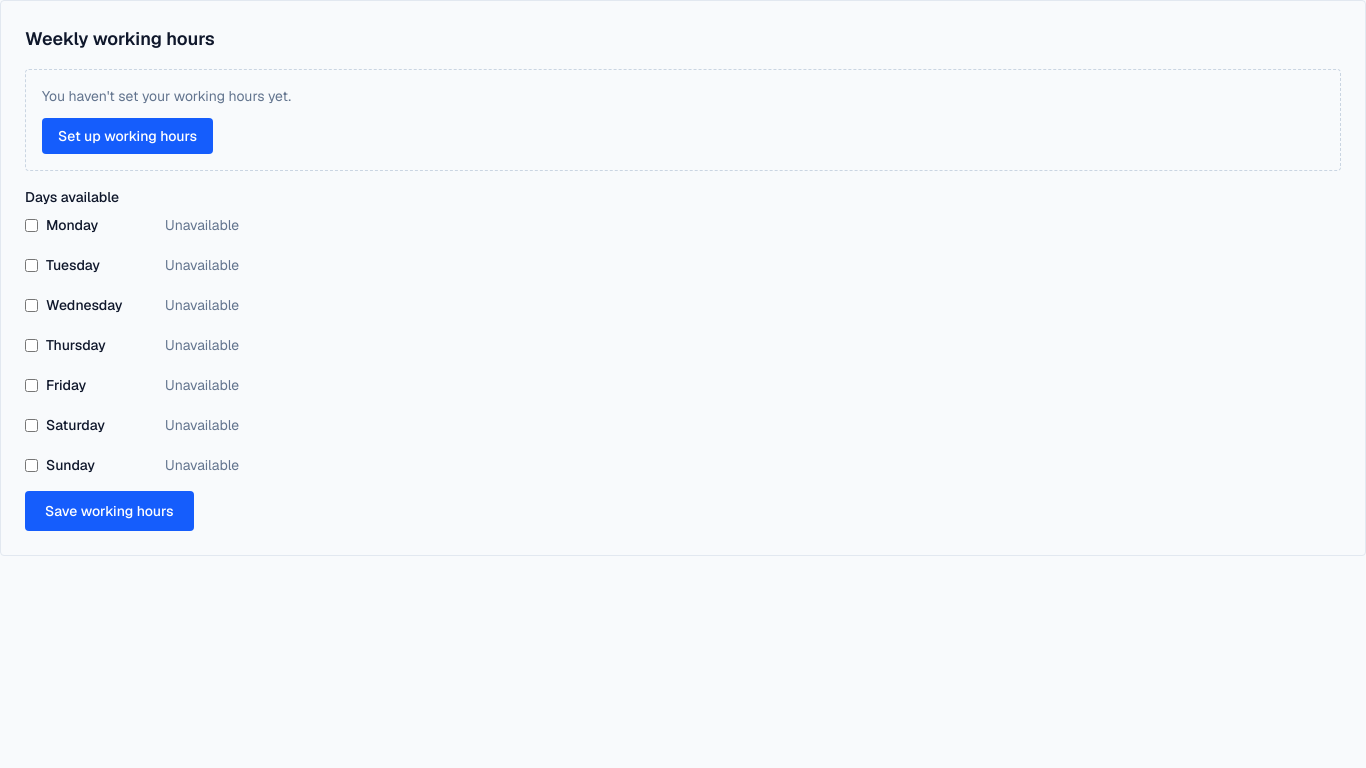
Test: WorkingHoursSection › reveals a single block defaulting to 09:00-17:00 when a day is checked
The width and height of the screenshot is (1366, 768).
Click the checkbox labelled "Monday": (32, 225) [25,218,38,232]
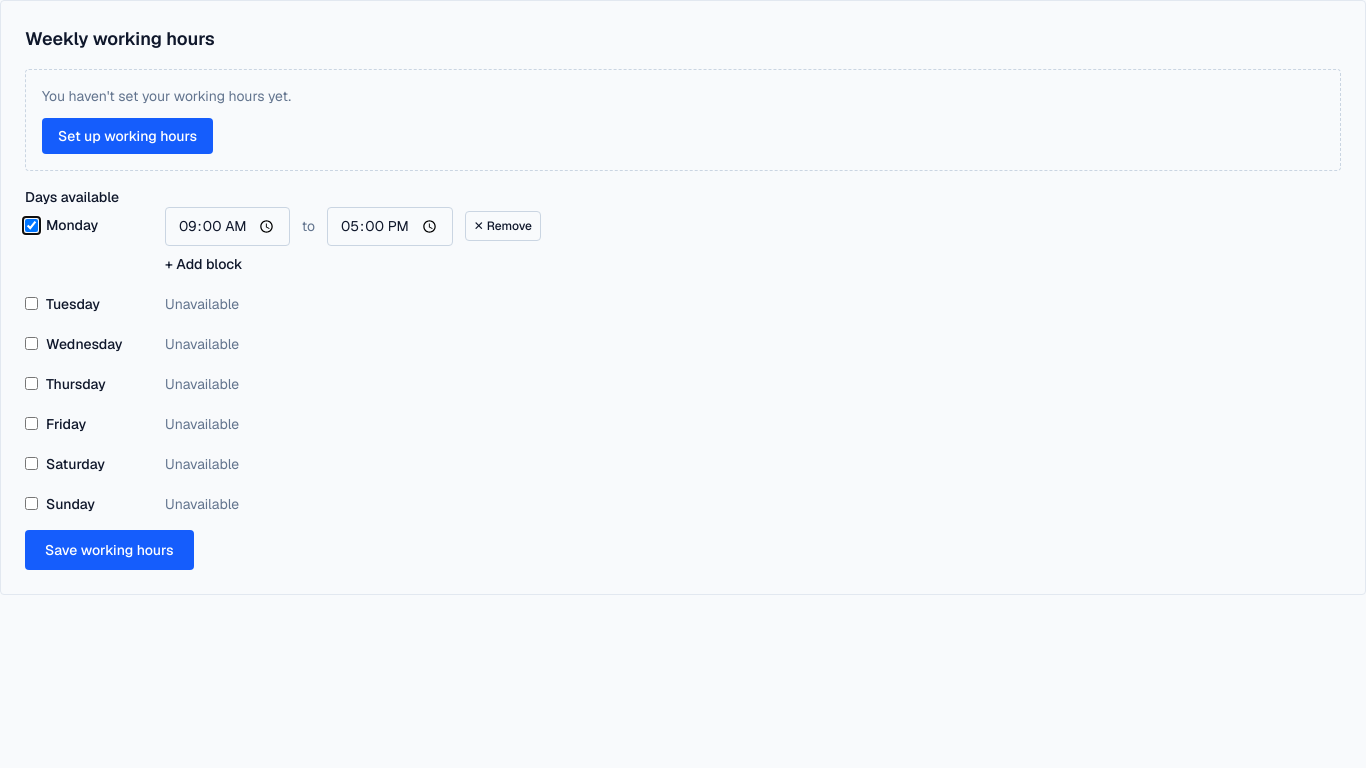
Now the 1st time field named "Monday block 1 start time" holds "09:00", box [165,207,290,246]
Now the 2nd time field named "Monday block 1 end time" holds "17:00", box [327,207,453,246]
